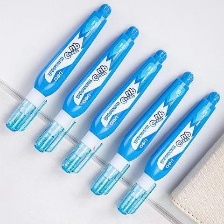correction_fluid: (3, 2, 113, 134), (59, 46, 169, 175), (31, 24, 140, 154), (87, 69, 195, 198), (115, 88, 221, 216)
